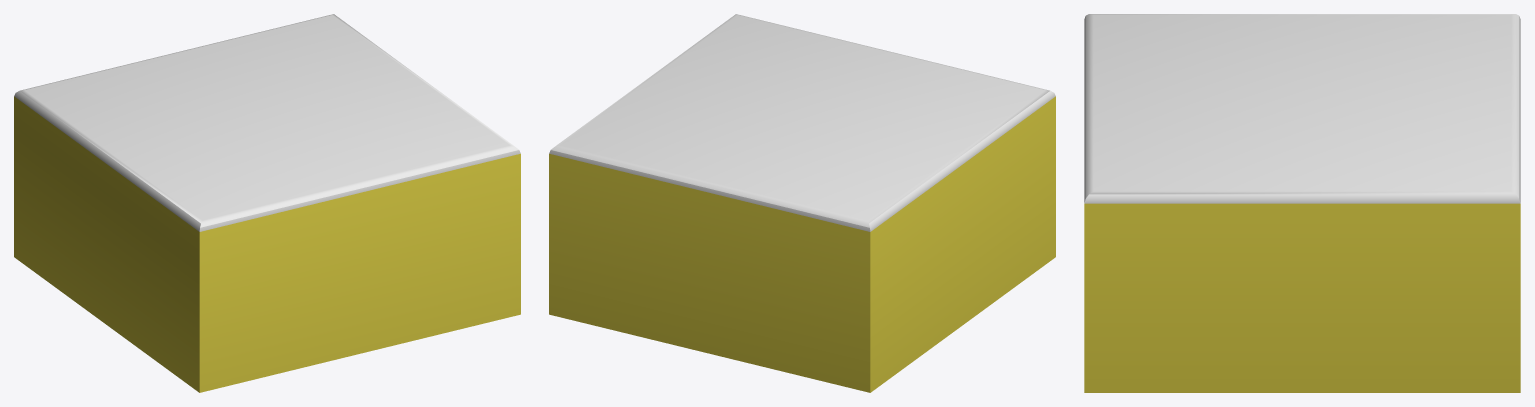
The picture shows the model from 3 angles, left to right: view 1: azimuth 30°, elevation 25°; view 2: azimuth 150°, elevation 25°; view 3: azimuth 270°, elevation 25°; orthographic projection. The views are drawn at different scales.
Visible parts, largest first — view 1: Cube; view 2: Cube; view 3: Cube.
Part boxes in pixels (x1,y1,x2,y2): Cube: (14,14,520,392); Cube: (549,14,1055,392); Cube: (1084,14,1520,392).
Bounding box in the file's own units: 4000 × 2000 × 4000.
